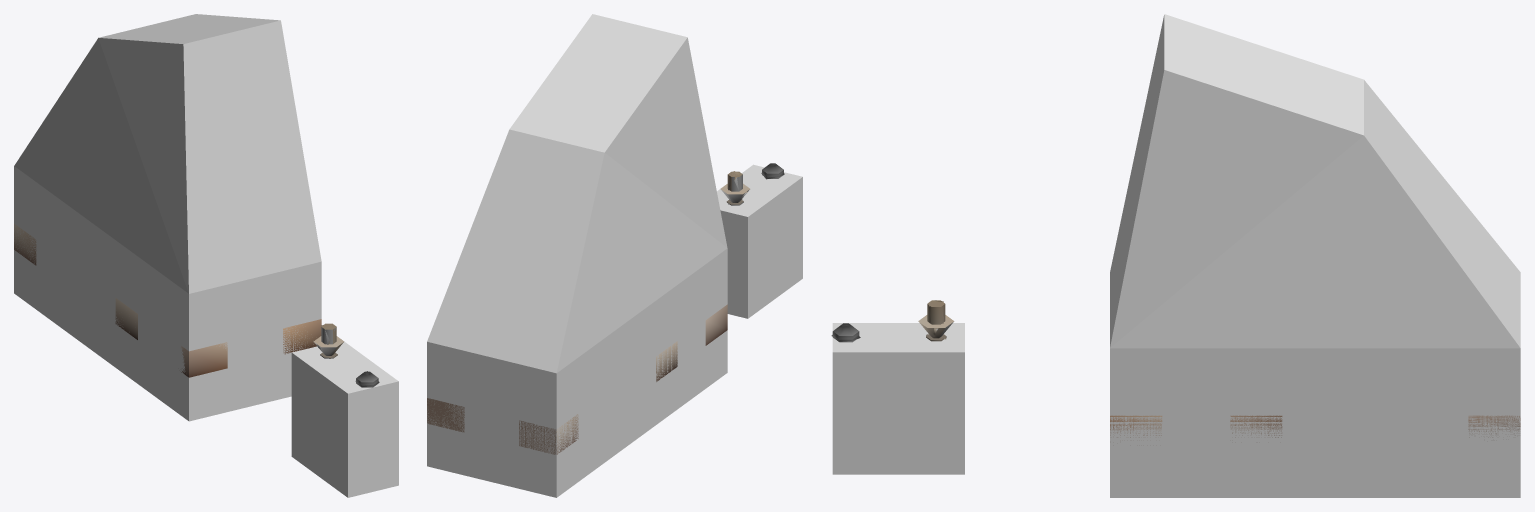
Rendered from pumpjack_a.dae.
The picture shows the model from 3 angles, left to right: view 1: azimuth 30°, elevation 25°; view 2: azimuth 150°, elevation 25°; view 3: azimuth 270°, elevation 25°; orthographic projection. The views are drawn at different scales.
Visible parts, largest first — view 1: Colmesh-1, pumpjack_a_a300; view 2: Colmesh-1, pumpjack_a_a300; view 3: Colmesh-1, pumpjack_a_a300.
Part boxes in pixels (left/top/right/bottom): Colmesh-1: left=14, top=14, right=398, bottom=497; pumpjack_a_a300: left=14, top=223, right=378, bottom=387; Colmesh-1: left=427, top=14, right=802, bottom=497; pumpjack_a_a300: left=427, top=163, right=783, bottom=454; Colmesh-1: left=832, top=14, right=1520, bottom=497; pumpjack_a_a300: left=832, top=300, right=1520, bottom=437.
Size of the model in its own units: 4.07 by 15.59 by 10.47.
